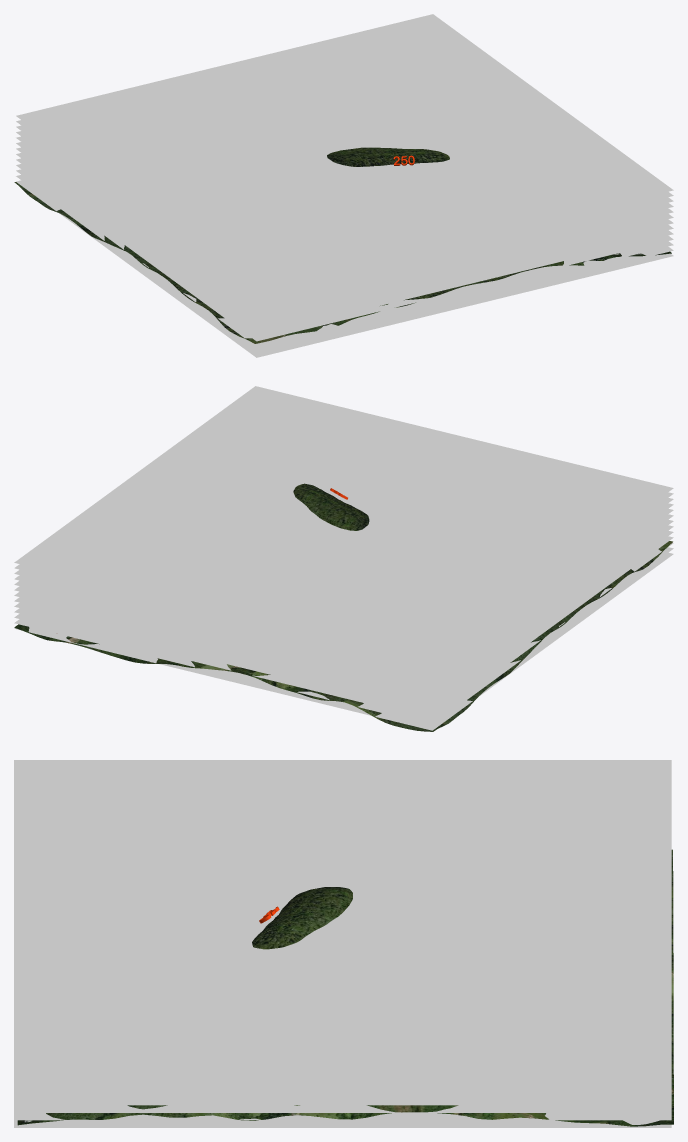
Rendered from PrudentopolisNc1.glb.
The picture shows the model from 3 angles, top to bottom: view 1: azimuth 30°, elevation 25°; view 2: azimuth 150°, elevation 25°; view 3: azimuth 270°, elevation 25°; orthographic projection. The views are drawn at different scales.
Visible parts, largest first — view 1: root, Location Terrain; view 2: root, Location Terrain; view 3: root, Location Terrain.
Part boxes in pixels (<box>): root: <box>16,14,673,357</box>; Location Terrain: <box>14,147,671,343</box>; root: <box>14,386,673,730</box>; Location Terrain: <box>14,483,672,731</box>; root: <box>14,760,671,1127</box>; Location Terrain: <box>17,849,673,1126</box>.
Size of the model in its own units: 2000 by 354 by 2000.
Materials: 3 (1 with a texture image).
